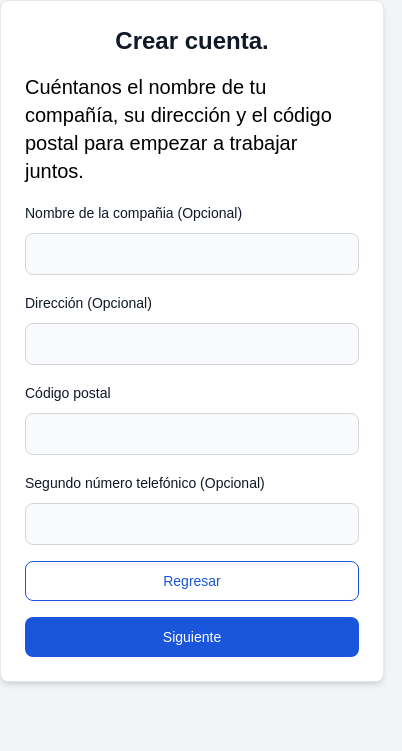
Test: CompanyDetails › shows validation error for second phone number with incorrect length
The width and height of the screenshot is (402, 751).
Type "123456789" into the field labelled "Segundo número telefónico (Opcional)" at (192,524), box [25,503,359,545]
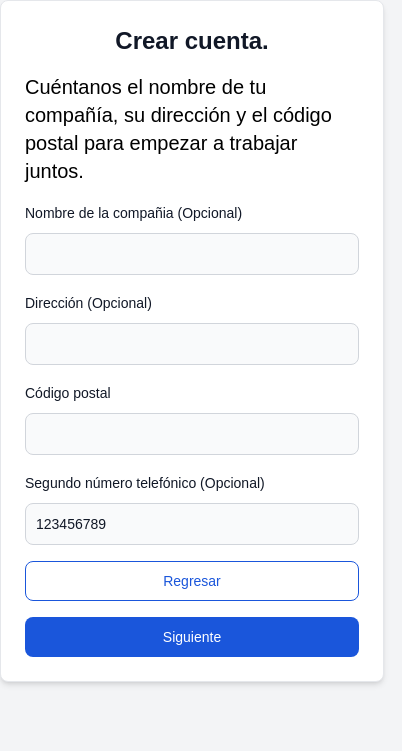
Type "1234" into the field labelled "Código postal" at (192,434), box [25,413,359,455]
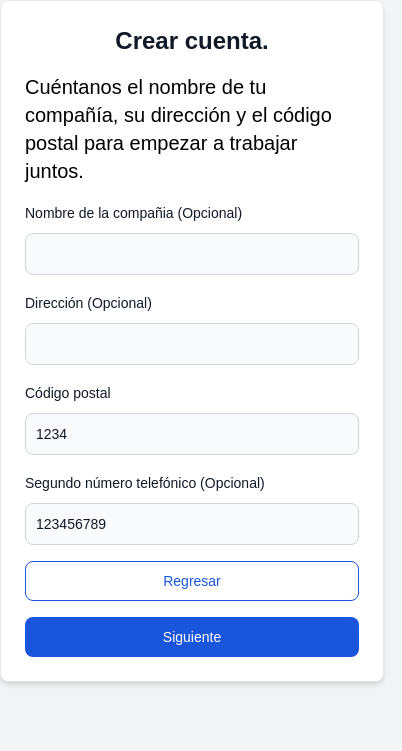
Click the button "Siguiente" at (192,637), box [25,617,359,657]
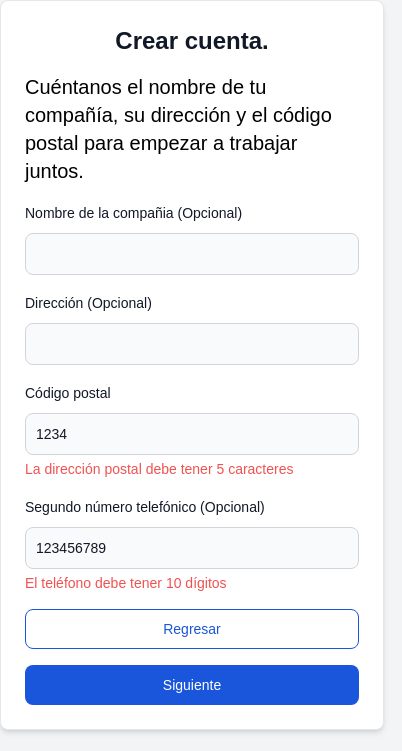
Now the text "El teléfono debe tener 10 dígitos" is shown, box [25,575,227,591]
